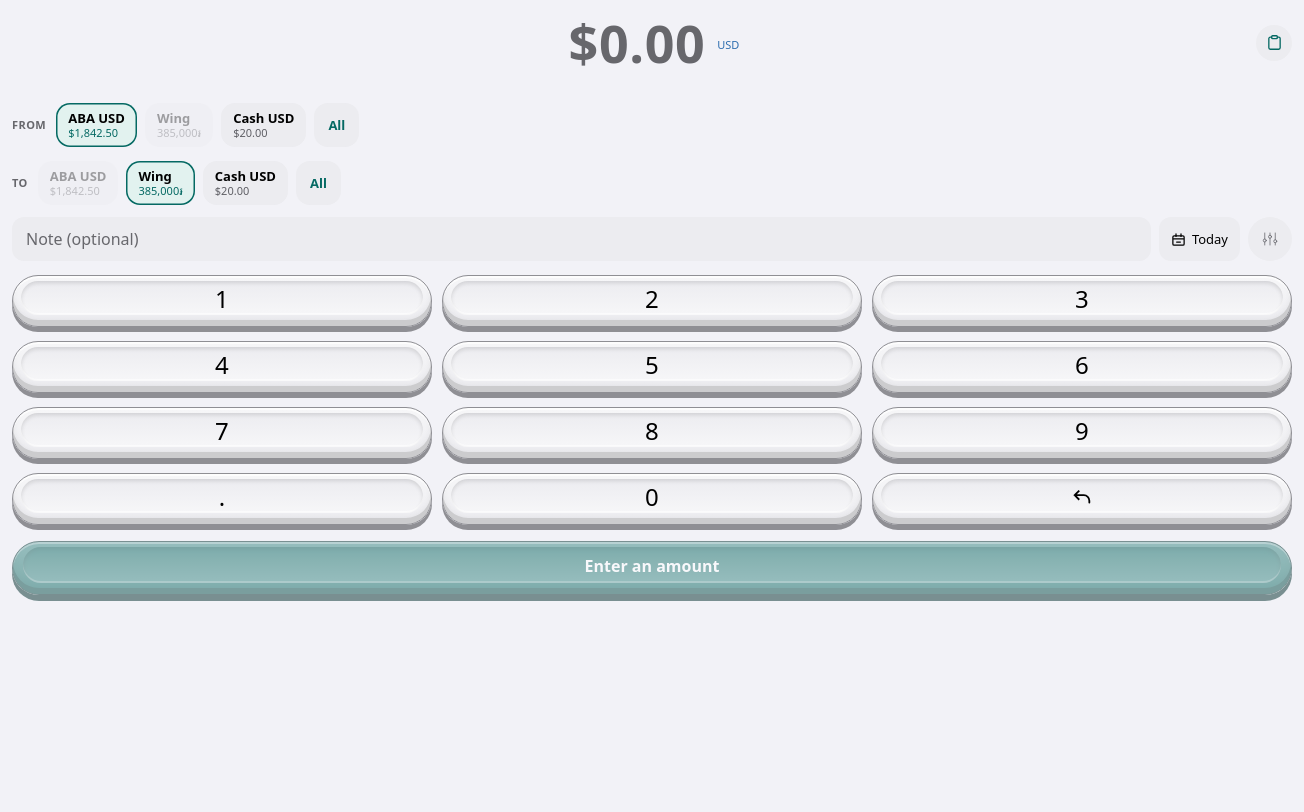
Test: account selection › offers a From and a To side and reveals Swap in More options
The width and height of the screenshot is (1304, 812).
Expected: the element "From" is shown, [12,103,359,147]
Expected: the element "To" is shown, [12,161,341,205]
What coordinates should you click on to do the following:
click the button named "More options"
I would click on:
 (1270, 239)
Its box is [1248,217,1292,261].
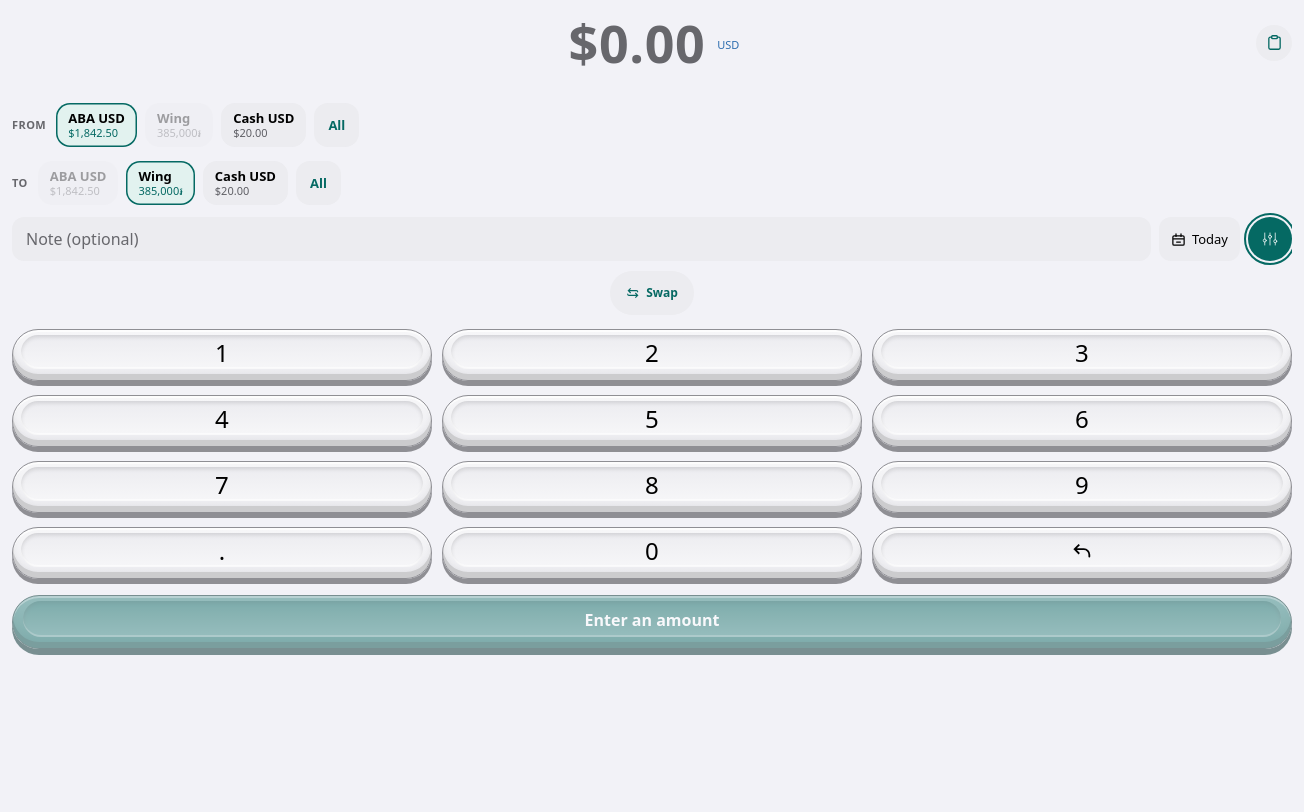
Expected: the button with aria-label "swap the two accounts" is shown, [610,271,694,315]
